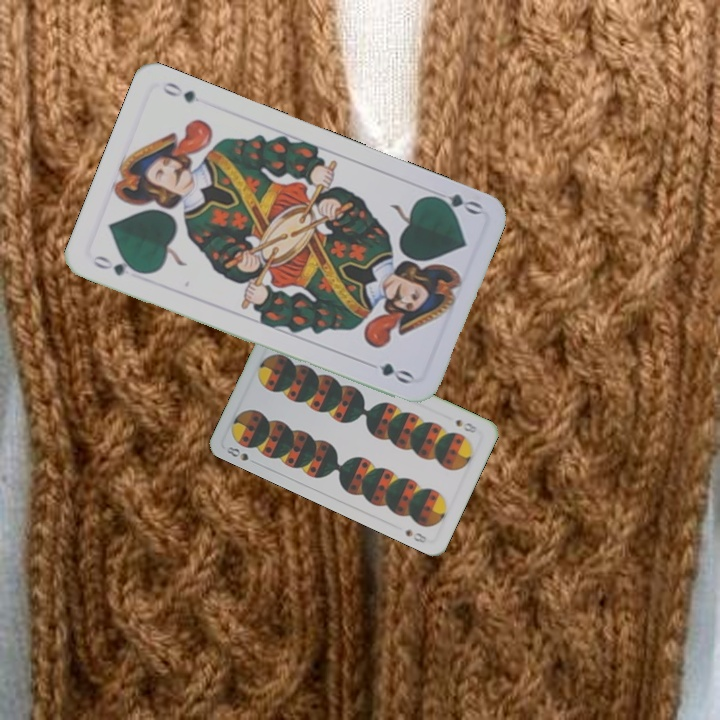GO: (425, 189, 484, 218), (89, 251, 146, 279)
S8: (223, 442, 251, 464), (451, 415, 480, 436)
